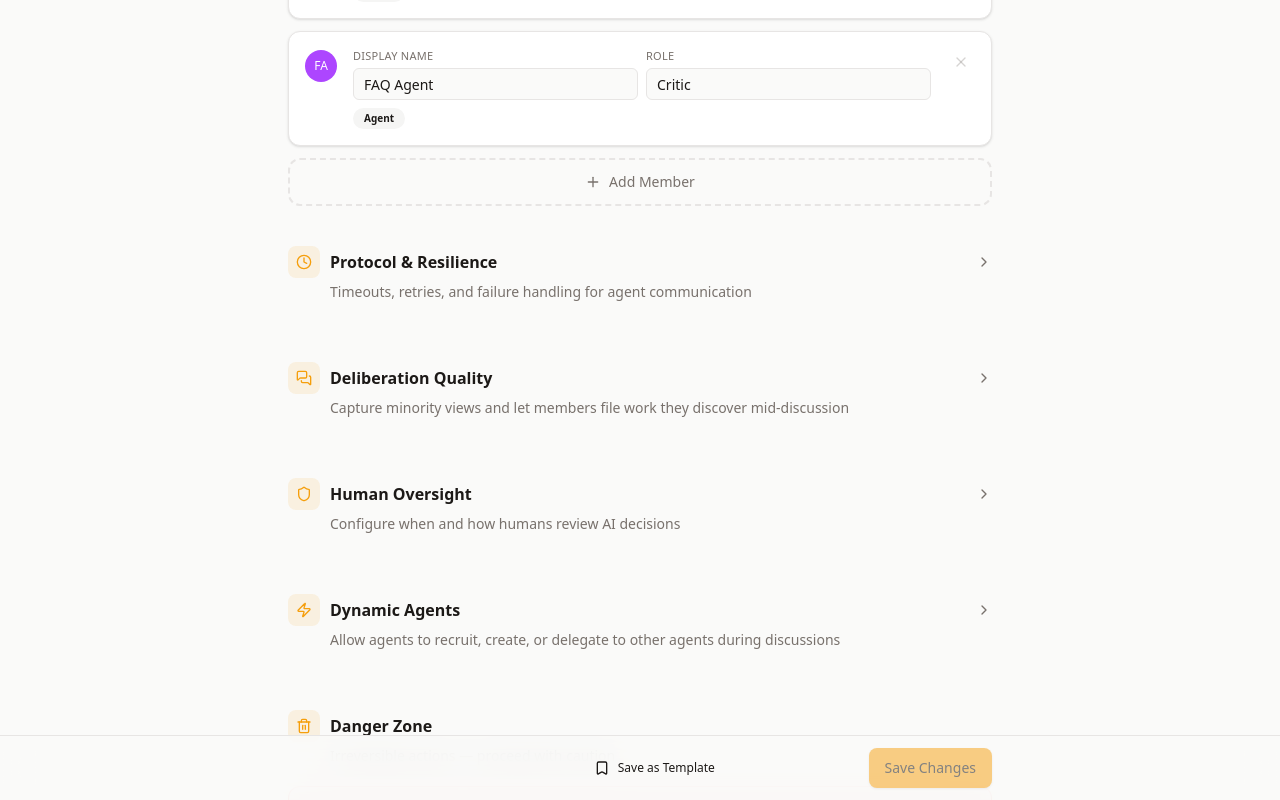
Test: WorkforceSettings — group collaboration parity › deliberation quality (I4 / I5) › reflects the stored minority-report and agent-filed-task settings
This screenshot has width=1280, height=800.
(page scrolled)
Click the button "Deliberation Quality".
click(640, 400)  # box [288, 362, 992, 438]
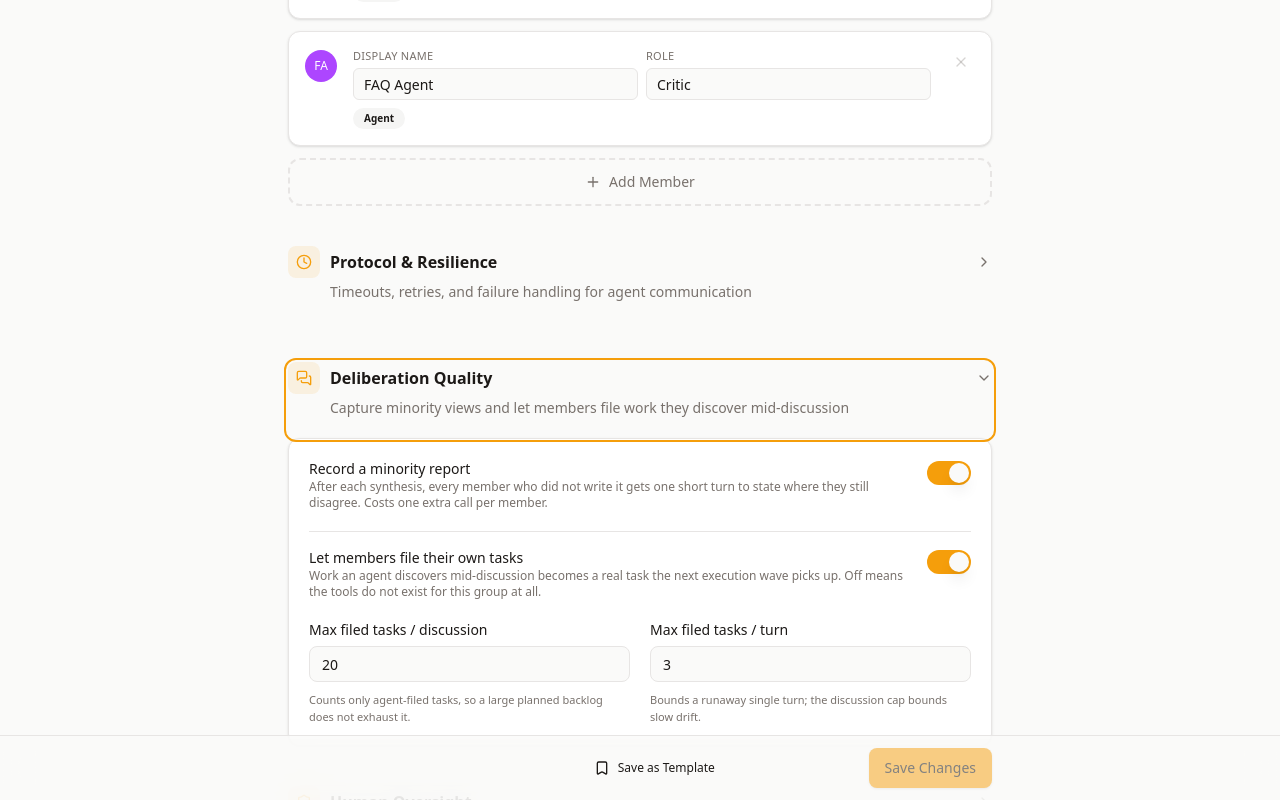
Expected: the number field labelled "Max filed tasks / discussion" holds "20", [309, 646, 630, 682]
Expected: the number field labelled "Max filed tasks / turn" holds "3", [650, 646, 971, 682]
